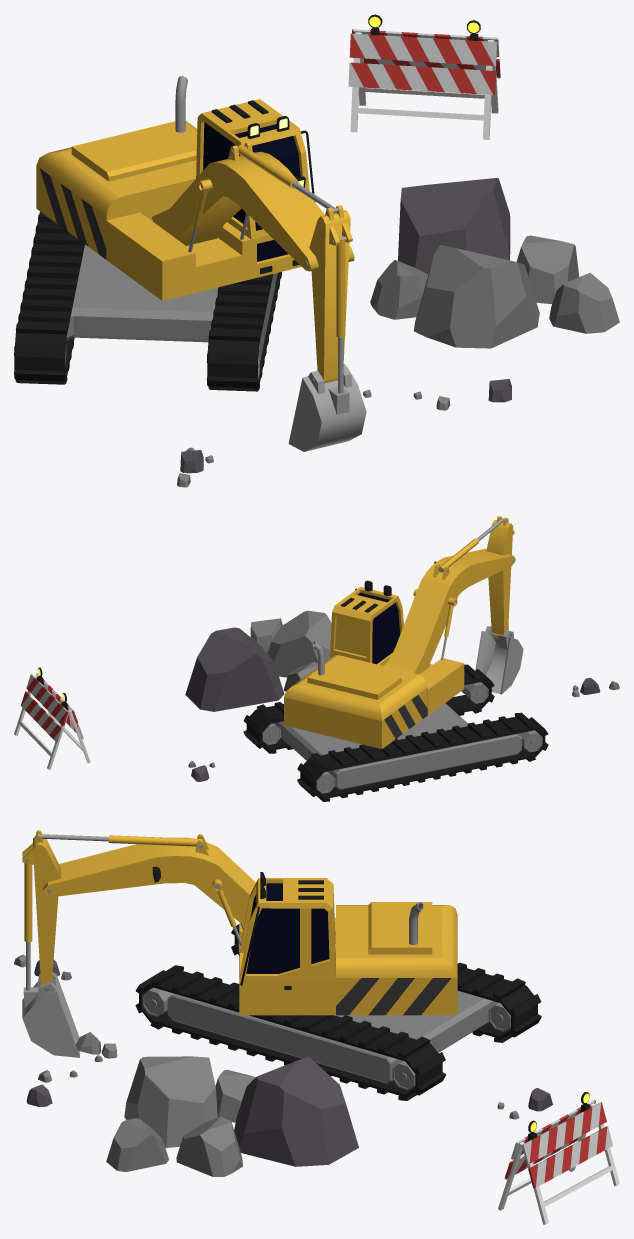
File: construction.glb
3 renders of one model, top to bottom at view 1: azimuth 30°, elevation 25°; view 2: azimuth 150°, elevation 25°; view 3: azimuth 270°, elevation 25°, orthographic. The views are drawn at different scales.
Visible parts, largest first — view 1: Cube.001, Cube.015, Cube, RockFormation2.015, Cube.006, Cube.012, RockFormation2.018, Plane, Cube.018, Cube.017, Cube.008, RockFormation2.021 (+6 smaller); view 2: Cube, Cube.015, Cube.012, Cube.001, RockFormation2.018, Cube.006, RockFormation2.015, Plane, Cube.008, Cylinder.011, Cube.017, Cube.018 (+4 smaller); view 3: Cube.015, Cube, Cube.001, RockFormation2.018, Cube.012, Cube.006, RockFormation2.015, Plane, RockFormation2.019, Cube.008, RockFormation2.021, Cube.017 (+6 smaller).
Boxes of the visible parts, x1,y1,x2,y2 form: Cube.001: (106,99,309,300); Cube.015: (14,211,281,391); Cube: (36,121,197,259); RockFormation2.015: (414,245,539,348); Cube.006: (151,151,354,271); Cube.012: (66,244,277,360); RockFormation2.018: (398,178,510,274); Plane: (288,364,366,451); Cube.018: (348,58,500,94); Cube.017: (349,29,499,65); Cube.008: (310,210,350,383); RockFormation2.021: (549,272,619,333); Cube: (284,655,427,748); Cube.015: (243,664,548,801); Cube.012: (274,701,521,789); Cube.001: (330,586,464,715); RockFormation2.018: (185,627,284,711); Cube.006: (385,548,515,674); RockFormation2.015: (267,610,331,677); Plane: (475,626,523,694); Cube.008: (486,520,513,636); Cylinder.011: (262,682,542,793); Cube.017: (26,673,78,725); Cube.018: (20,691,83,743); Cube.015: (135,924,541,1100); Cube: (336,902,457,1015); Cube.001: (238,878,335,1015); RockFormation2.018: (234,1057,358,1166); Cube.012: (167,991,498,1083); Cube.006: (42,837,255,925); RockFormation2.015: (124,1056,217,1147); Plane: (22,972,79,1057); RockFormation2.019: (176,1116,242,1176); Cube.008: (33,836,59,984); RockFormation2.021: (106,1118,168,1171); Cube.017: (511,1100,606,1164).
Bounding box in the file's own units: 5 × 1.85 × 4.65.
